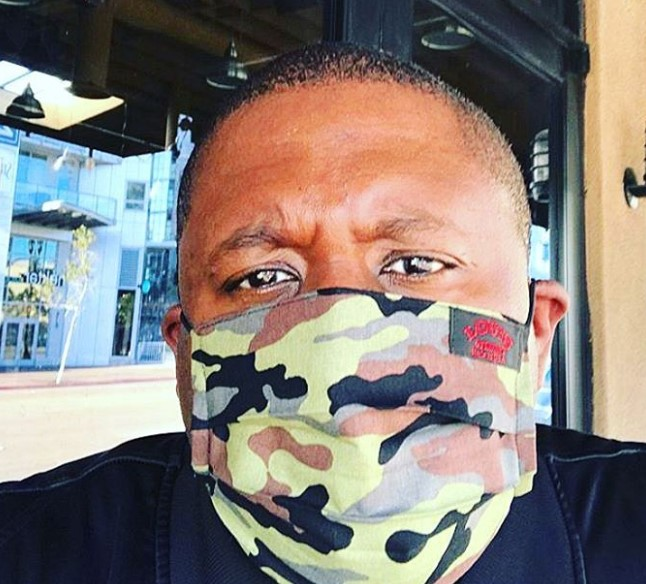face_with_mask: (158, 39, 570, 582)
